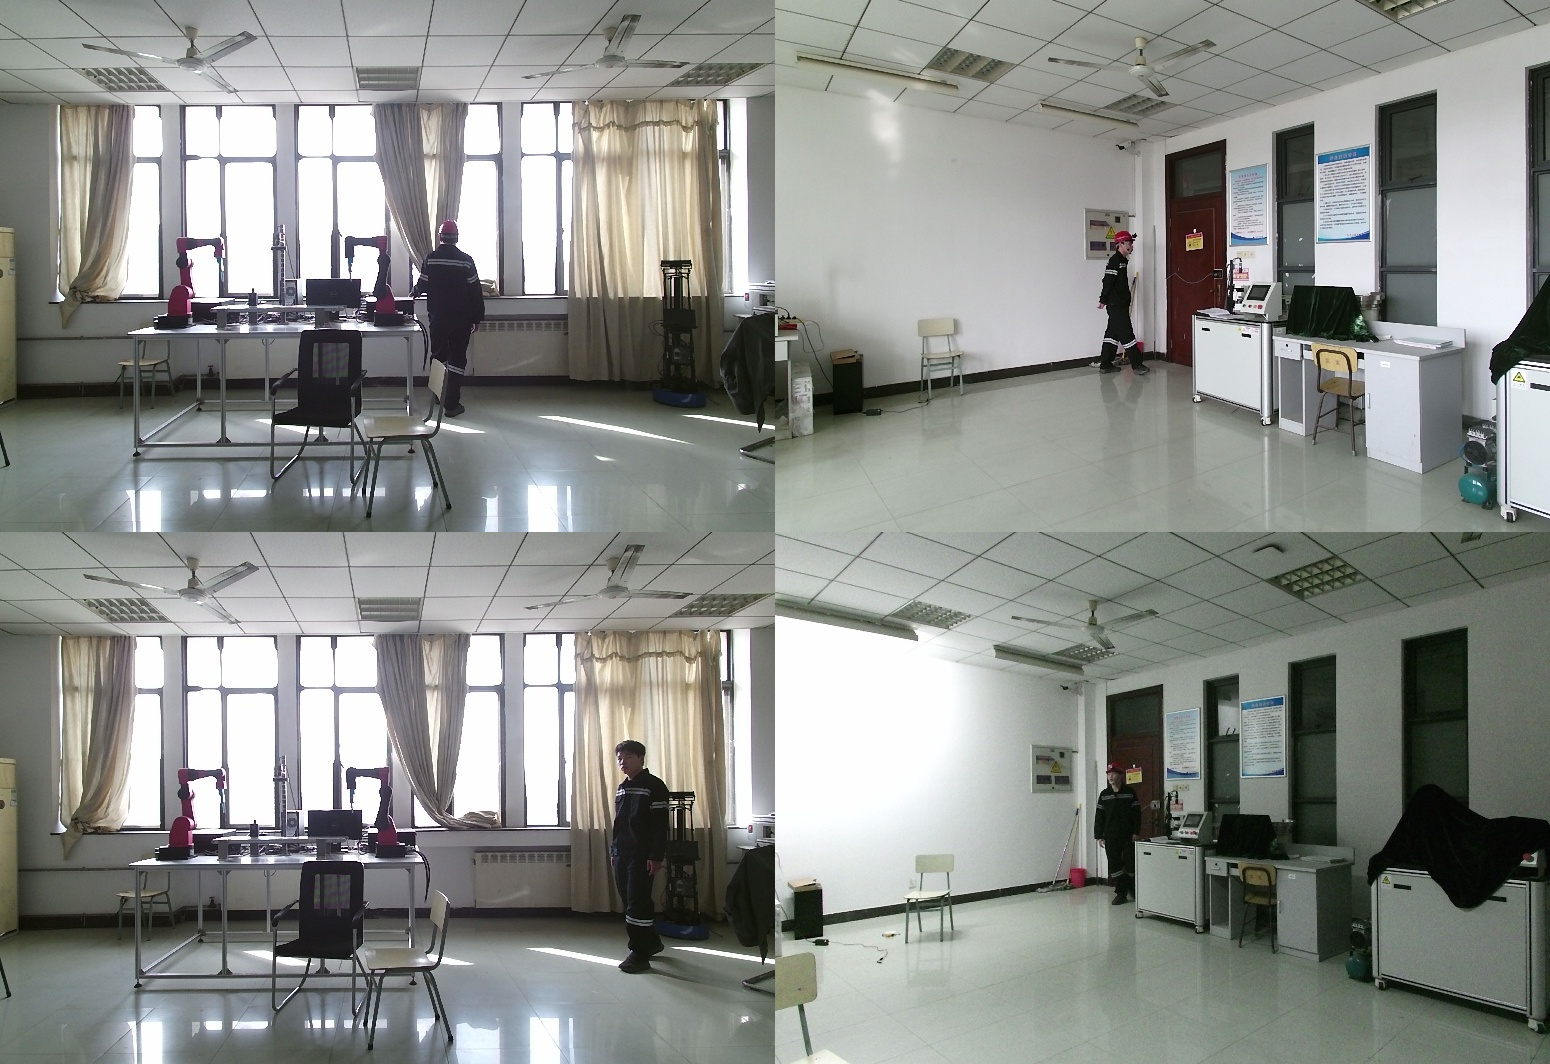person: (616, 742, 683, 977), (410, 222, 487, 423), (1091, 761, 1150, 911), (1095, 232, 1148, 375)
